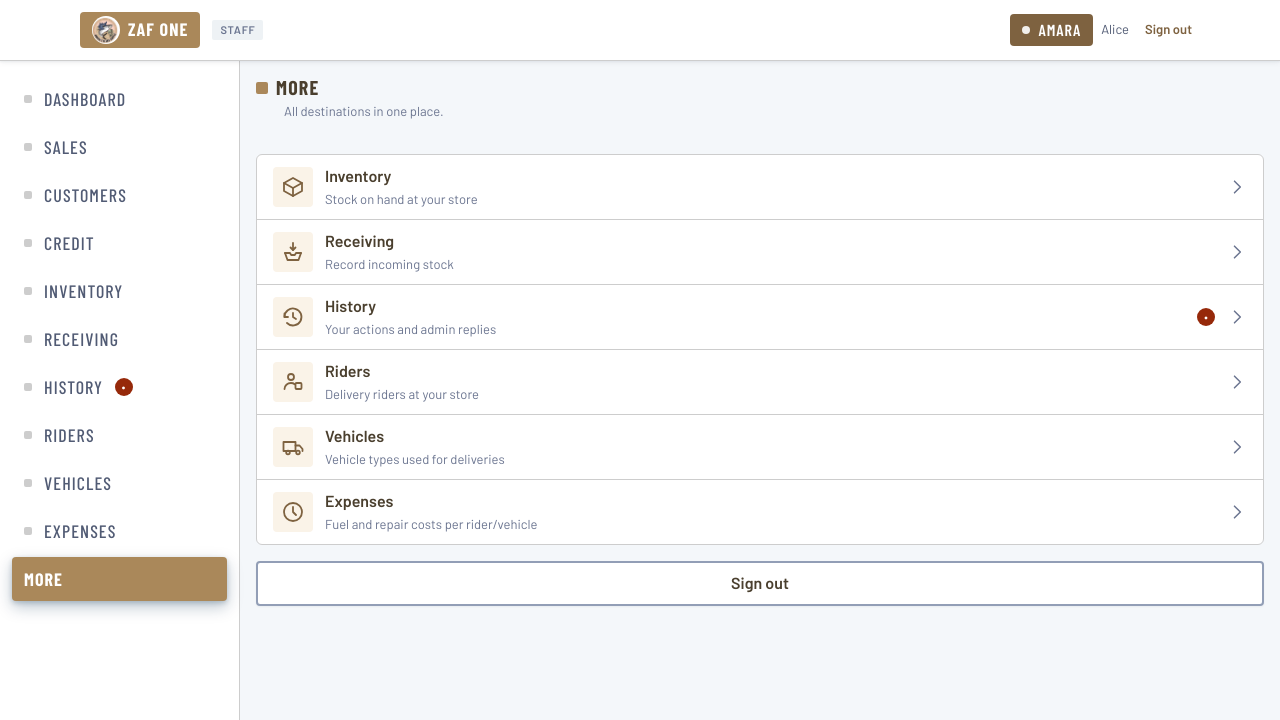
Scenario: MorePage › signs out from the More page and returns to sign-in
Check: the heading "More" is shown, box [276,77,319,98]
Scoped to main: the header keeps its own (CSS-hidden on phones) Sign out button.
Click the button "Sign out" below "Fuel and repair costs per rider/vehicle" at (760, 583), box [256,561,1264,606]
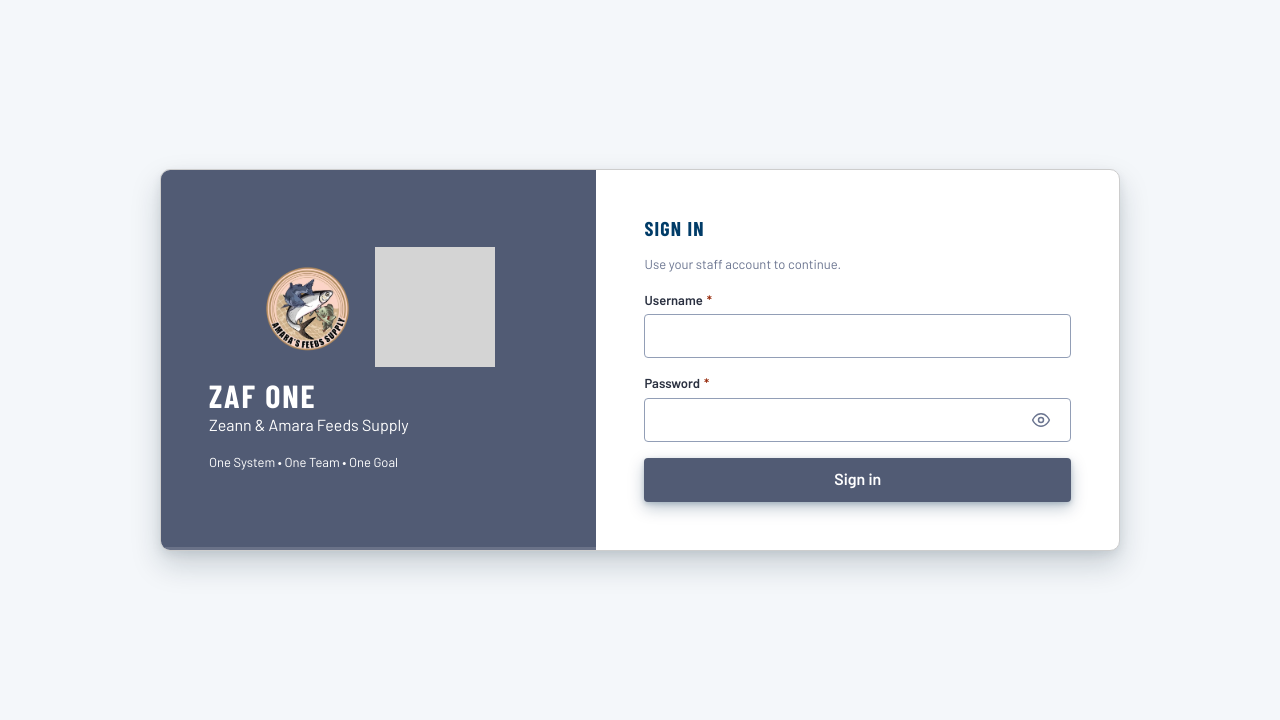
Check: the heading "Sign in" is shown, box [644,216,705,240]
